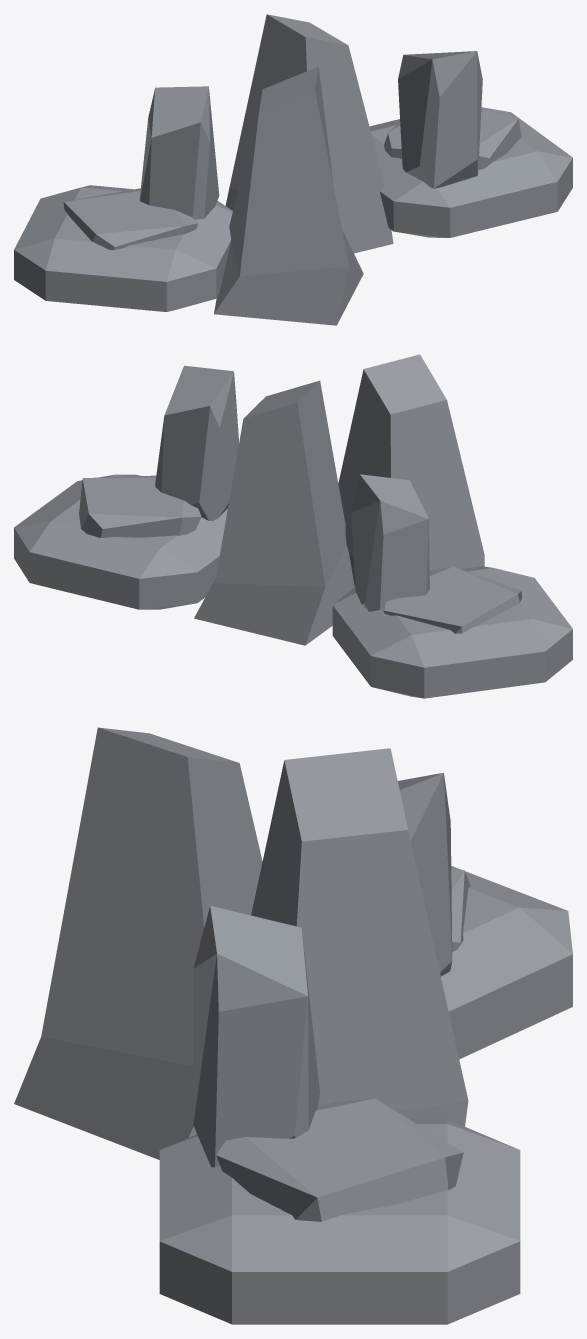
File: Rock_v03.fbx
3 renders of one model, top to bottom at view 1: azimuth 30°, elevation 25°; view 2: azimuth 150°, elevation 25°; view 3: azimuth 270°, elevation 25°, orthographic. The views are drawn at different scales.
Visible parts, largest first — view 1: Rock_v03; view 2: Rock_v03; view 3: Rock_v03.
Part boxes in pixels (<box>): Rock_v03: <box>14,14,572,325</box>; Rock_v03: <box>14,354,572,698</box>; Rock_v03: <box>14,727,572,1324</box>.
Bounding box in the file's own units: 89.79 × 37.84 × 49.13.
1 material, 1 textured.
